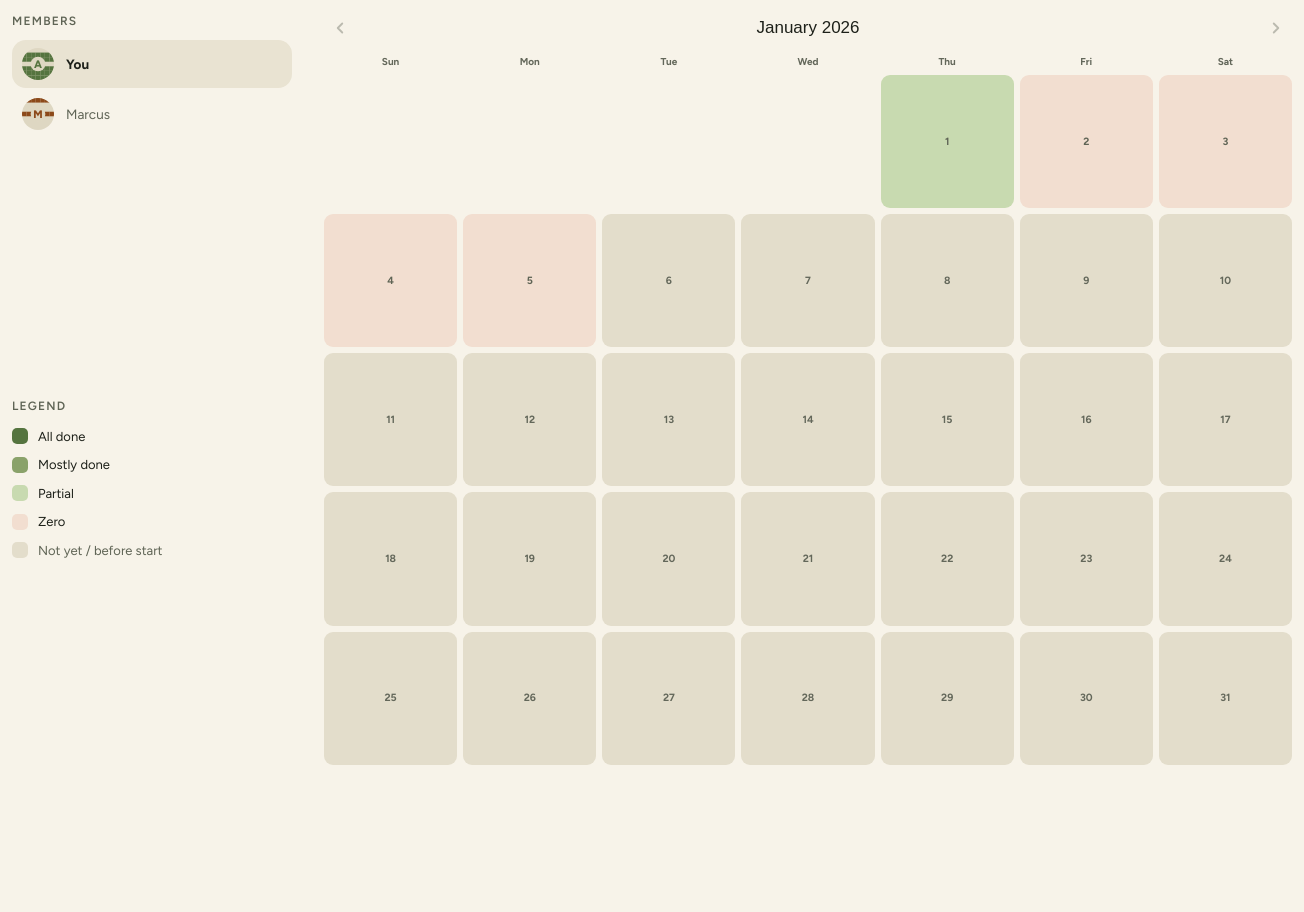
Scenario: WallGrid › switches which member's data is shown
The width and height of the screenshot is (1304, 912).
Click the button "M Marcus": (38, 114) [12,90,292,138]
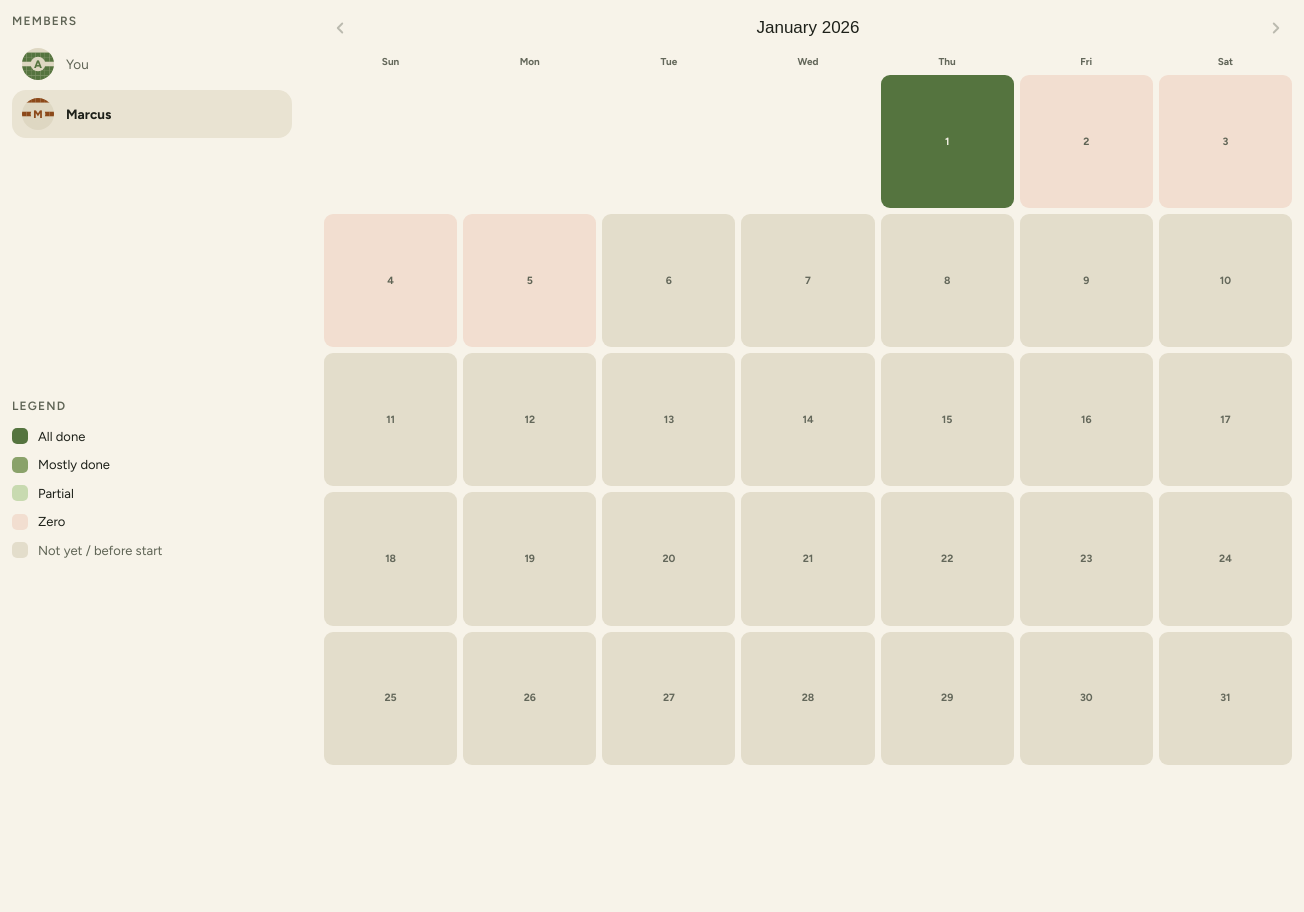
Click the button named "2026-01-01, 2 of 2 done": (947, 142) [881,75,1014,208]
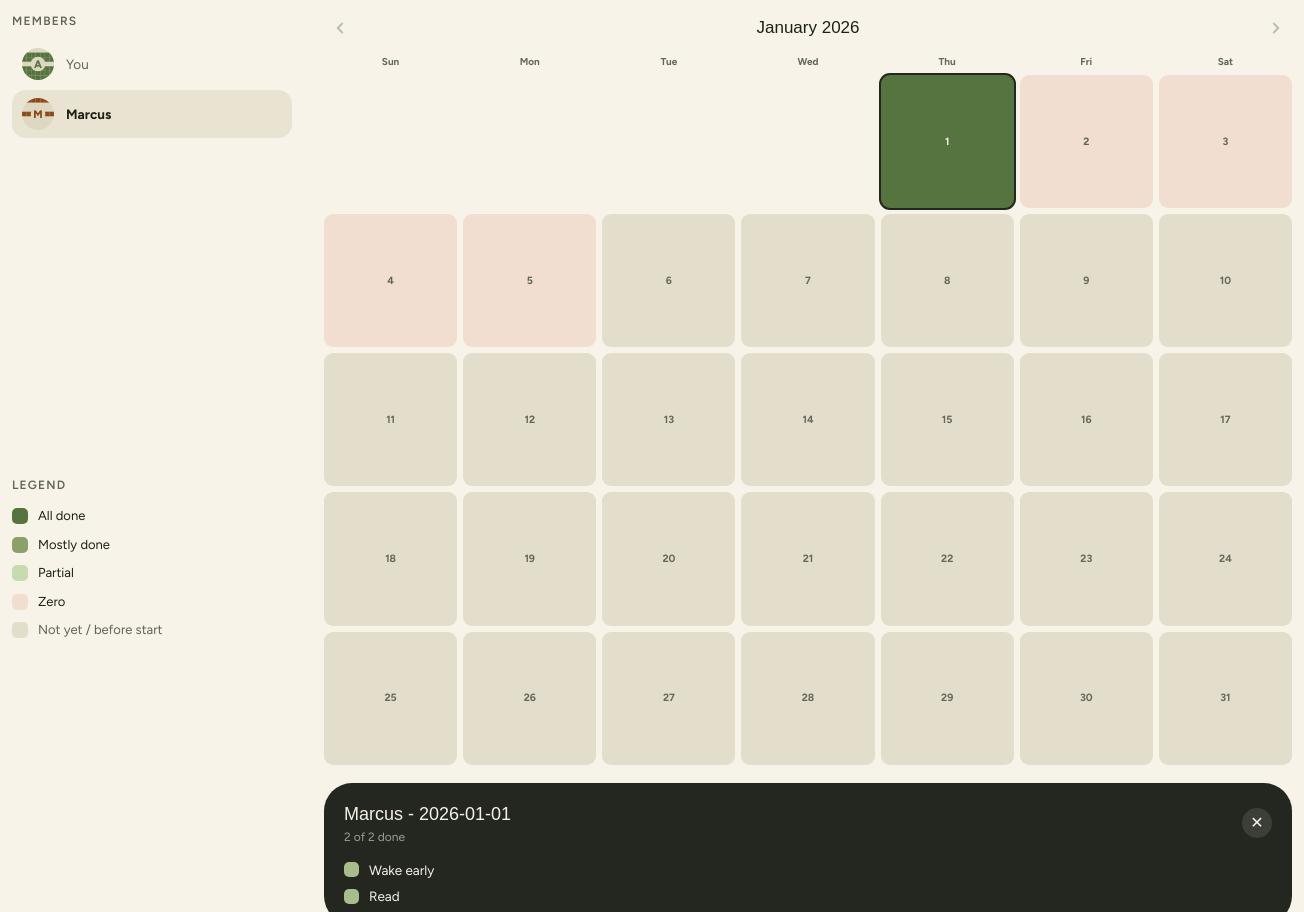
Expected: the text "Marcus - 2026-01-01" is shown, [344,801,511,828]
